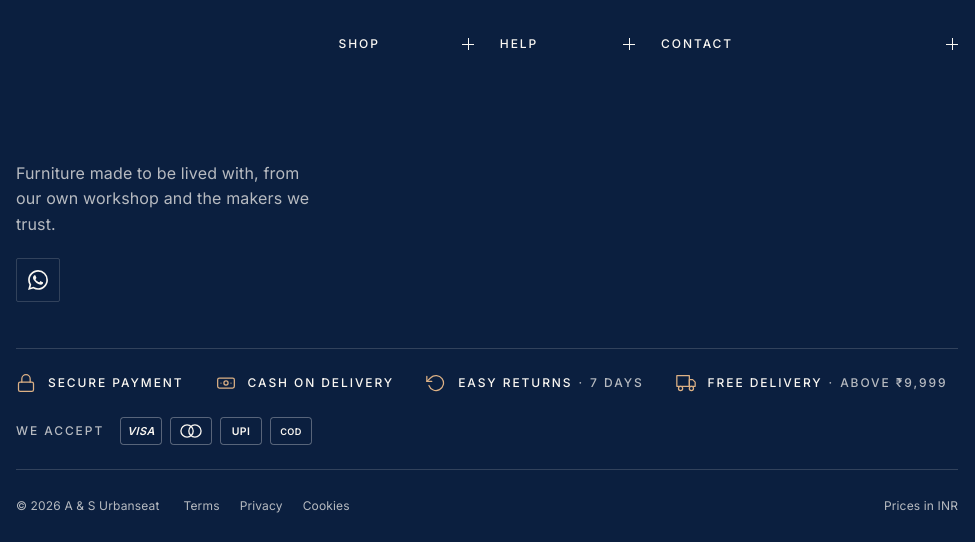
Test: on phones Shop, Help and Contact collapse behind disclosure buttons
This screenshot has width=975, height=542.
Expected: the heading "Help" is shown, [500, 16, 636, 72]
Expected: the heading "Contact" is shown, [661, 16, 958, 72]
Click the button "Shop" at (406, 44), box [338, 16, 474, 72]
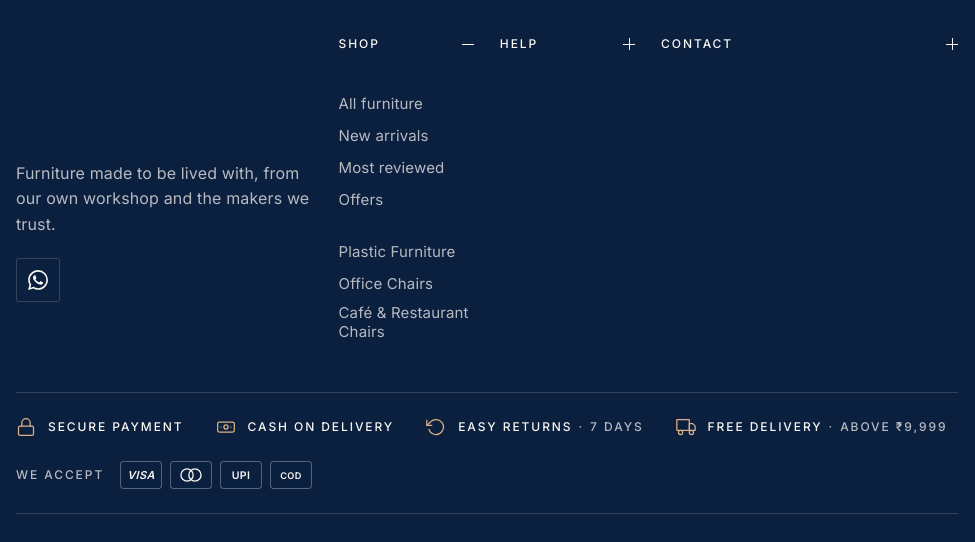
Expected: the link "All furniture" is shown, [338, 94, 423, 113]
Click the button "Shop" at (406, 44), box [338, 16, 474, 72]
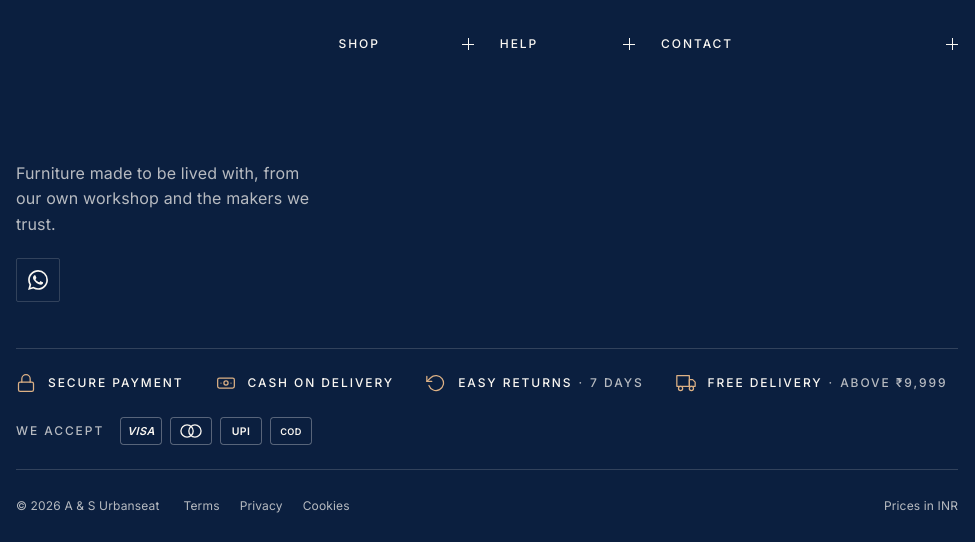
Expected: the link "All furniture" is gone
